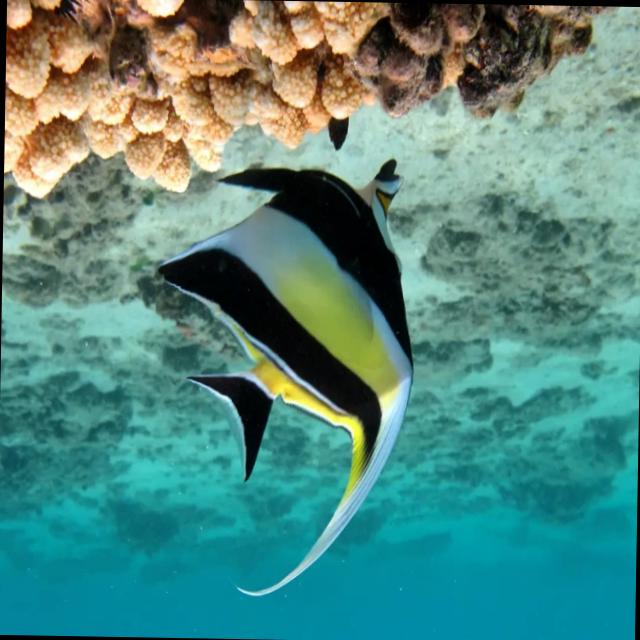MorishIdol: (150, 151, 418, 600)
